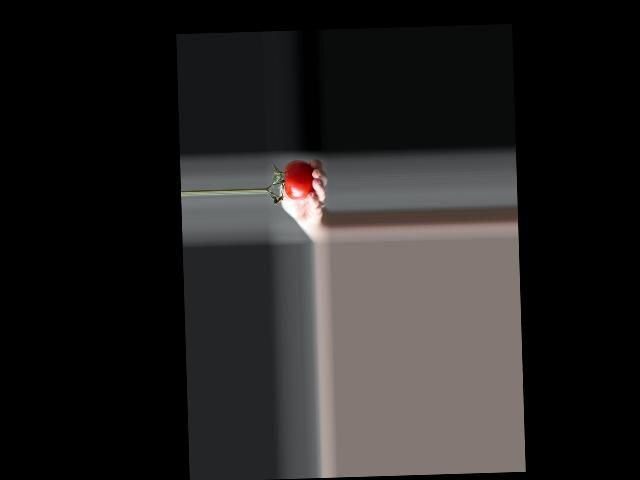tomato: (282, 159, 314, 200)
